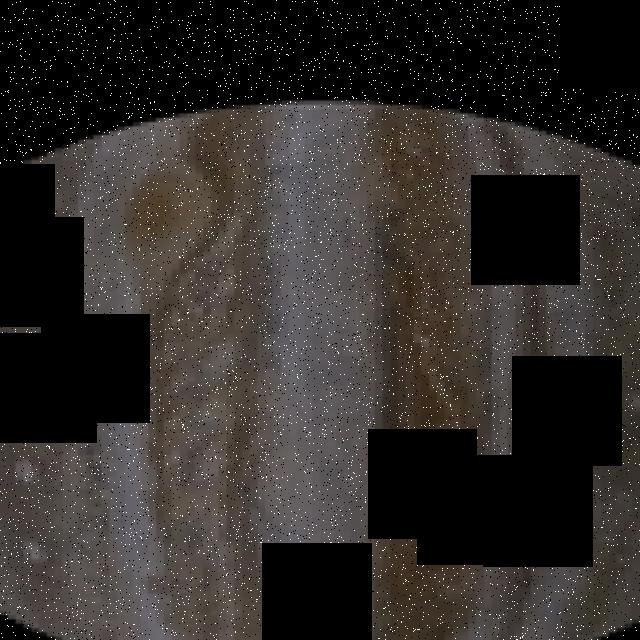Jupiter: (0, 100, 640, 640)
